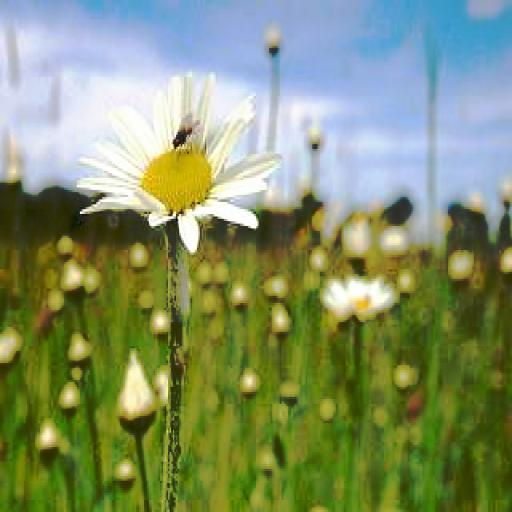daisy: (94, 79, 262, 233)
